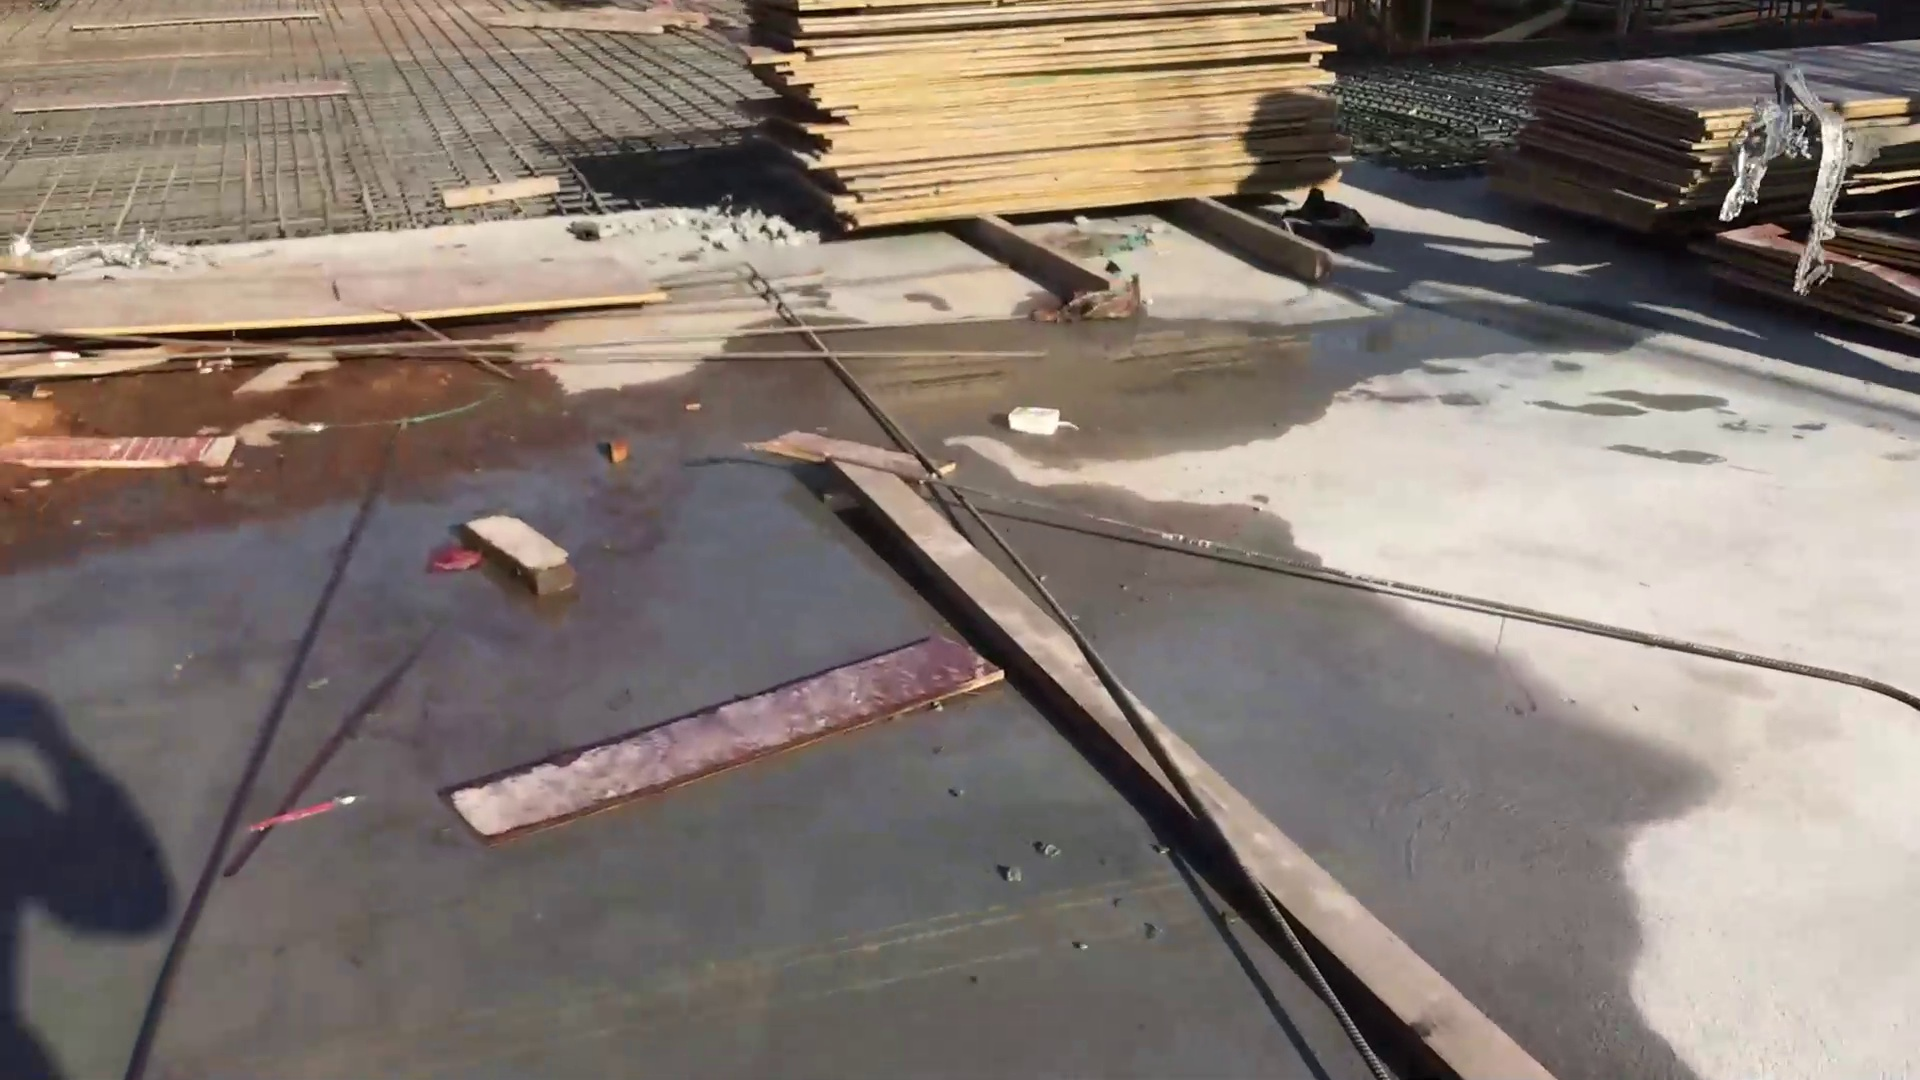board: (720, 1, 1387, 251), (1506, 22, 1898, 327)
